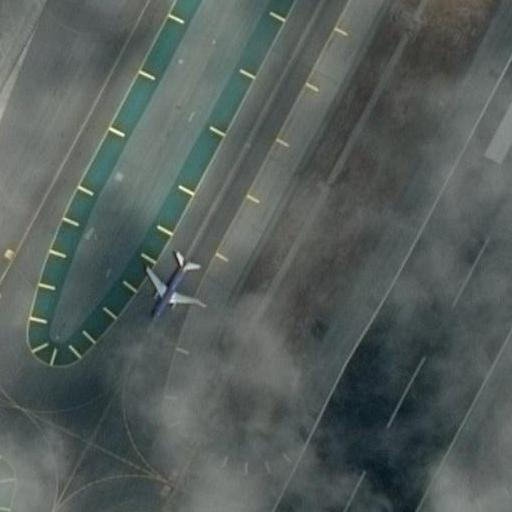Aircraft: (143, 241, 202, 319)
